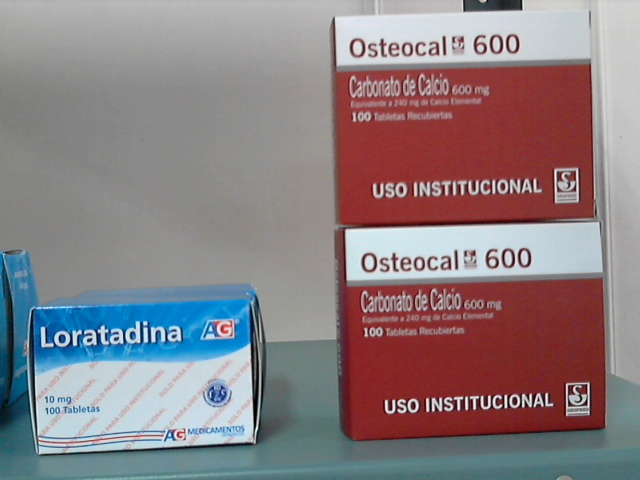AG: (35, 307, 255, 454)
